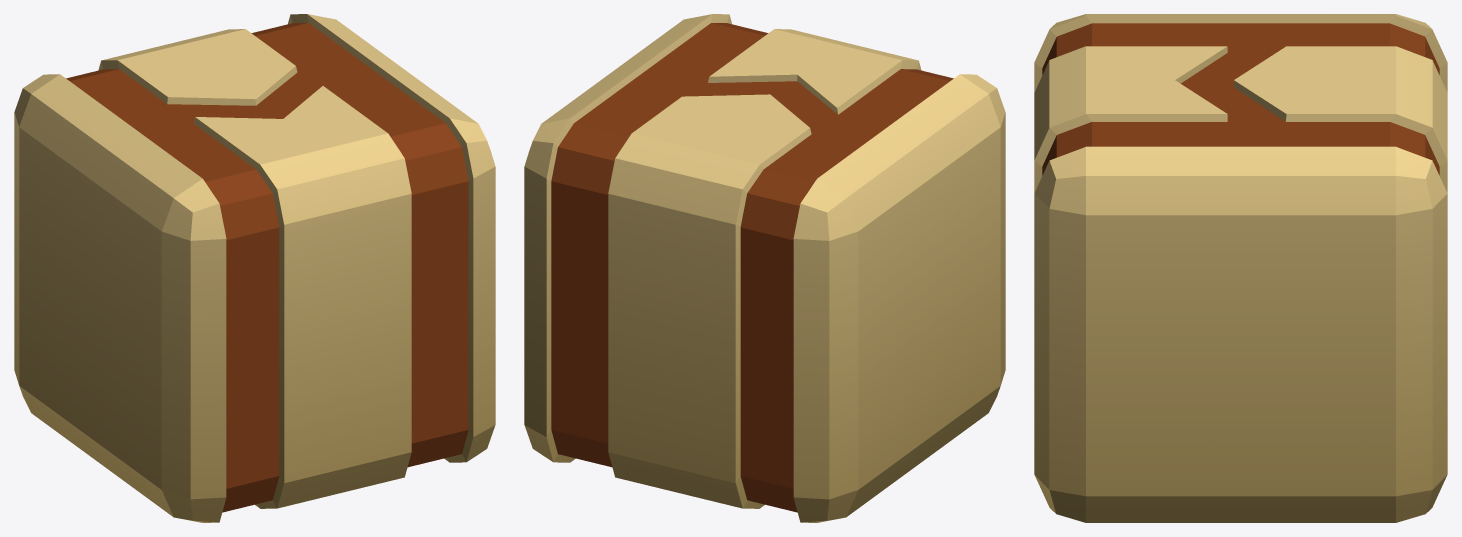
The model's file is Tile_Snake_Lane_White.fbx.
3 renders of one model, left to right at view 1: azimuth 30°, elevation 25°; view 2: azimuth 150°, elevation 25°; view 3: azimuth 270°, elevation 25°, orthographic. The views are drawn at different scales.
Visible parts, largest first — view 1: Jalur Ular Lurus Putih; view 2: Jalur Ular Lurus Putih; view 3: Jalur Ular Lurus Putih.
Part boxes in pixels (left/top/right/bottom): Jalur Ular Lurus Putih: left=14, top=14, right=495, bottom=522; Jalur Ular Lurus Putih: left=524, top=14, right=1005, bottom=522; Jalur Ular Lurus Putih: left=1034, top=14, right=1447, bottom=522.
Size of the model in its own units: 1 by 1 by 1.
Materials: 1 (1 with a texture image).
